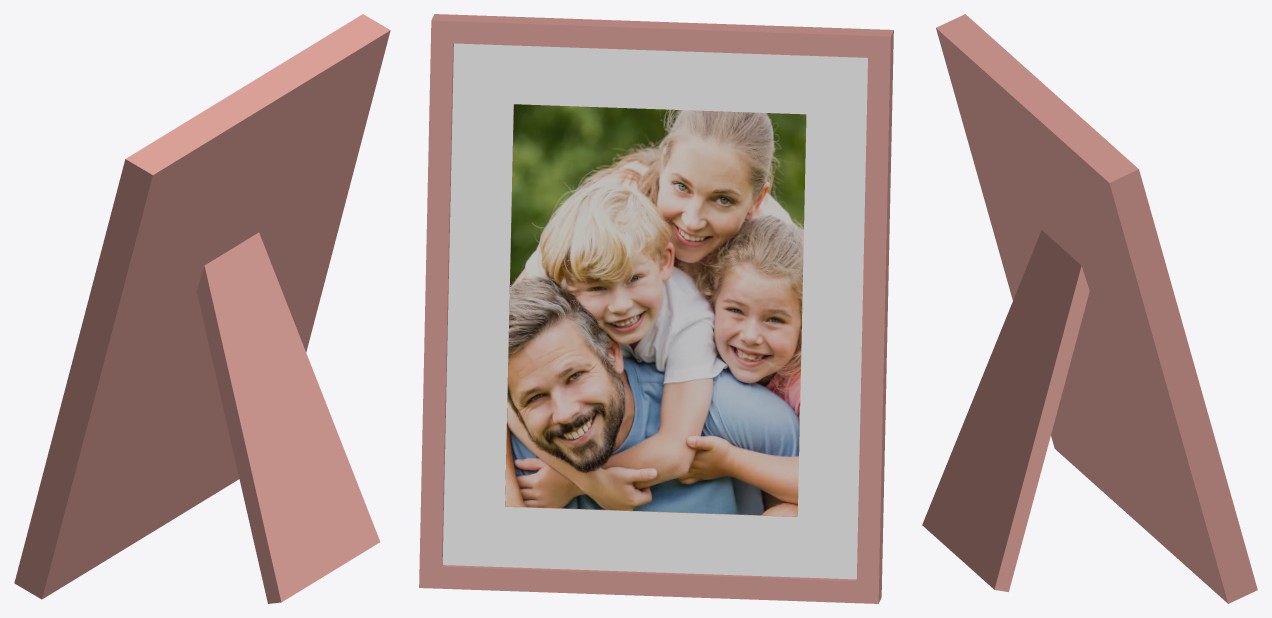
Rendered from quadro_scivania2.fbx.
The picture shows the model from 3 angles, left to right: view 1: azimuth 30°, elevation 25°; view 2: azimuth 150°, elevation 25°; view 3: azimuth 270°, elevation 25°; orthographic projection. The views are drawn at different scales.
Parts seen in each view (by area): view 1: quad2; view 2: quad2; view 3: quad2.
Boxes of the visible parts, x1=… form: quad2: x1=14, y1=14, x2=390, y2=603; quad2: x1=419, y1=14, x2=893, y2=603; quad2: x1=922, y1=14, x2=1257, y2=603.
Size of the model in its own units: 25.84 by 29.51 by 19.83.
Materials: 1 (1 with a texture image).
